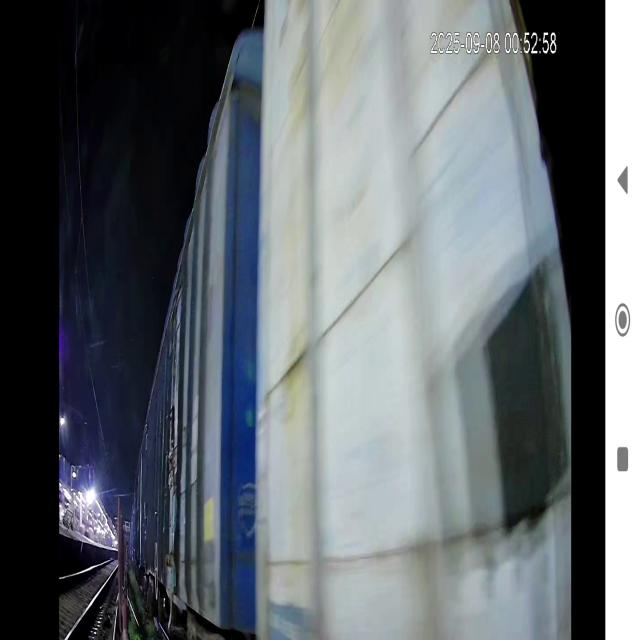joint: (216, 0, 320, 640)
